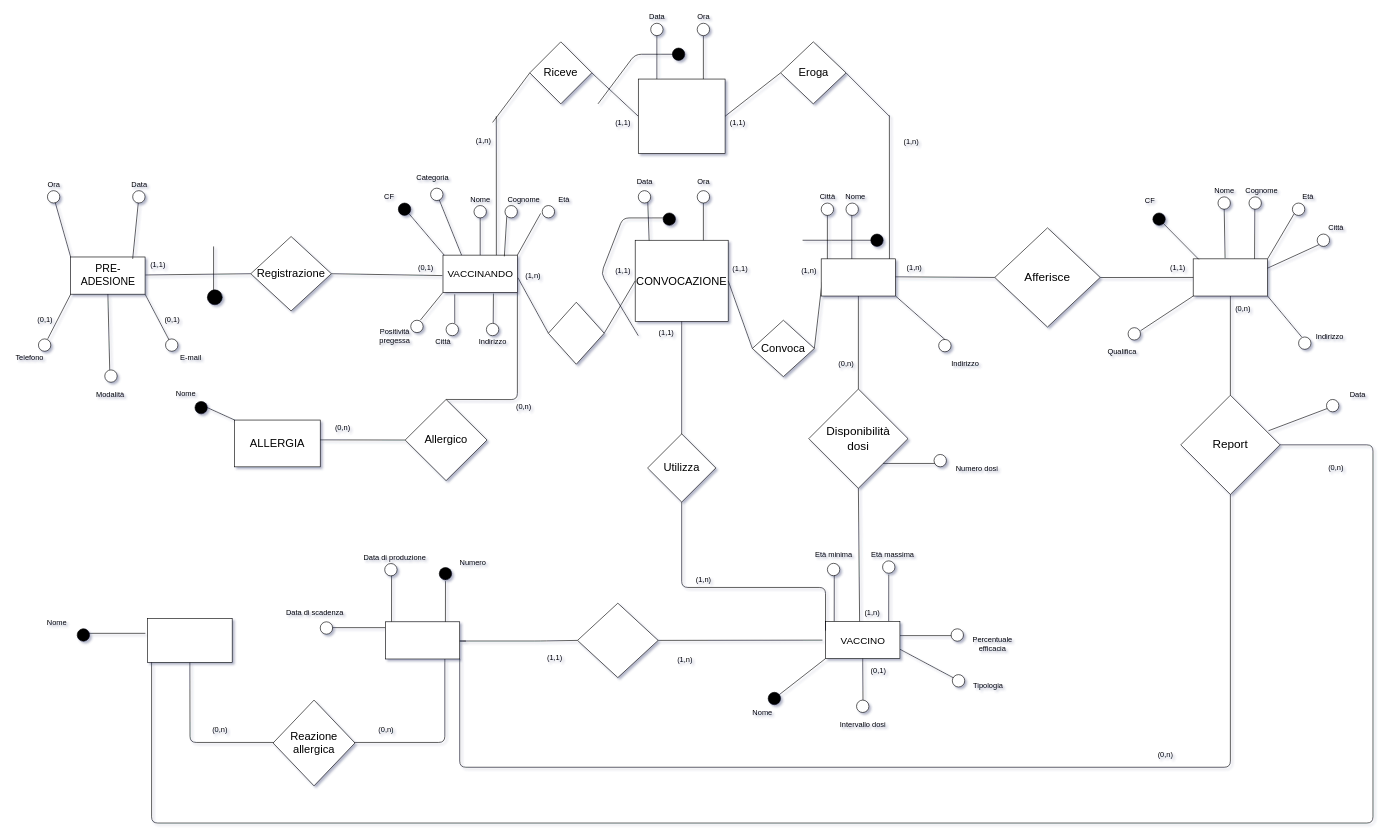
Image size: 1388x838. Some labels were removed from this diagram. Each missing label, with the centre of its shape:
"CENTRO VACCINALE" goes at pixel 858 277.
"Contiene" goes at pixel 617 640.
"EFFETTO ALLERGICO" goes at pixel 189 640.
"LOTTO" goes at pixel 422 640.
"MEDICO" goes at pixel 1230 277.
"Ottiene" goes at pixel 576 333.
"VACCINAZIONE" goes at pixel 681 115.
